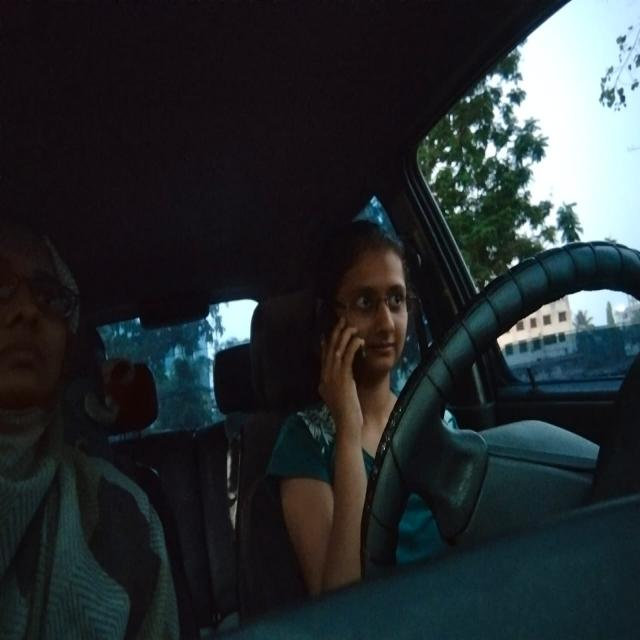mobile: (314, 298, 371, 395)
person: (317, 217, 413, 413), (2, 224, 82, 438)
